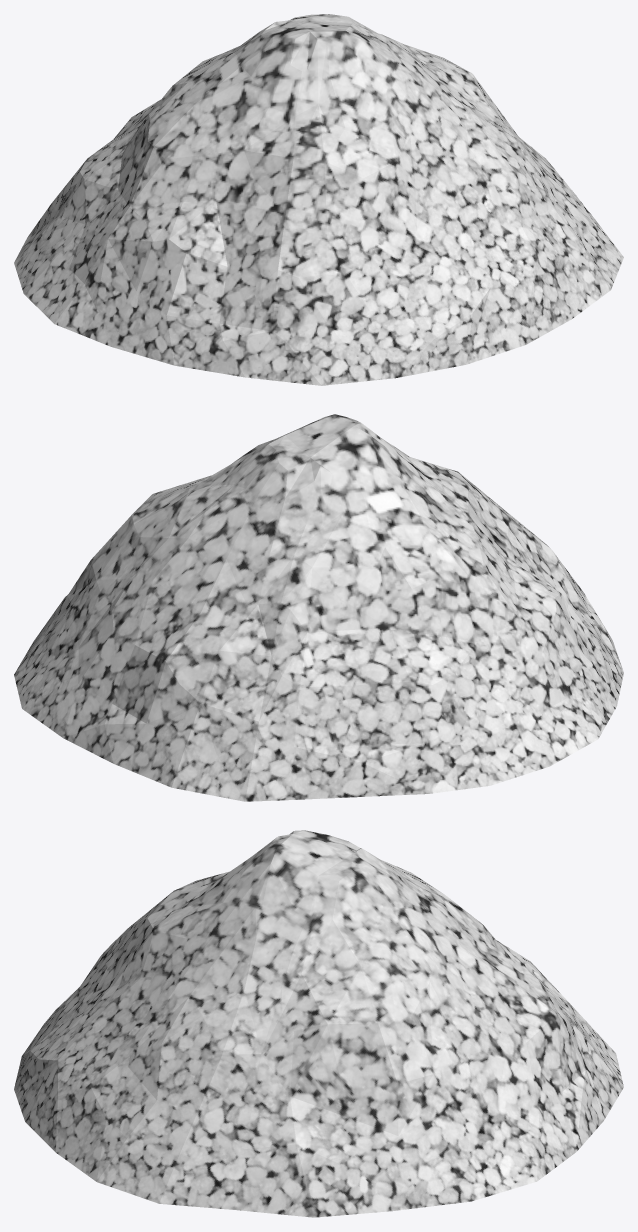
File: QiongZhiTangFen.FBX
The picture shows the model from 3 angles, top to bottom: view 1: azimuth 30°, elevation 25°; view 2: azimuth 150°, elevation 25°; view 3: azimuth 270°, elevation 25°; orthographic projection. The views are drawn at different scales.
Parts seen in each view (by area): view 1: salt; view 2: salt; view 3: salt.
Boxes of the visible parts, bbox=[...] form: salt: bbox=[14, 14, 623, 385]; salt: bbox=[14, 414, 623, 801]; salt: bbox=[14, 830, 623, 1217].
Size of the model in its own units: 2.81 by 1.22 by 2.76.
